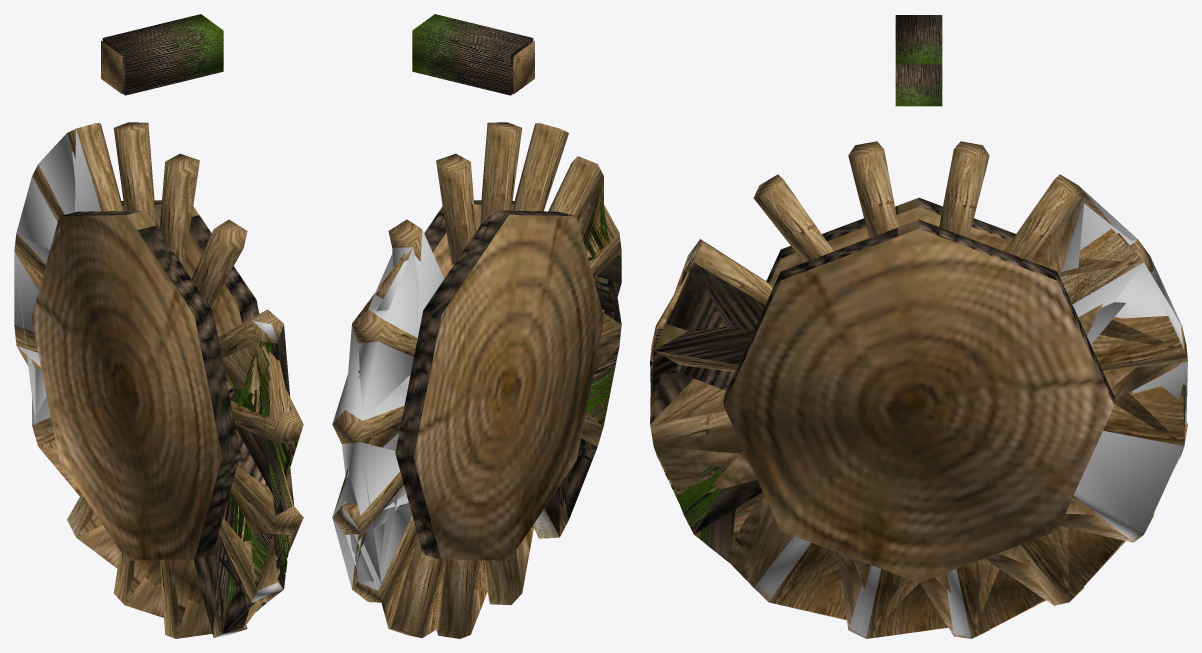
The model's file is stbr10.dae.
3 views of the same model, side by side, from view 1: azimuth 30°, elevation 25°; view 2: azimuth 150°, elevation 25°; view 3: azimuth 270°, elevation 25° (orthographic). The views are drawn at different scales.
Visible parts, largest first — view 1: main, gearleft, gearleftbroken, gearwork; view 2: main, gearleftbroken, gearleft, gearwork; view 3: main, gearleft, gearleftbroken, gearwork.
Boxes of the visible parts, x1,y1,x2,y2 form: main: (14, 14, 303, 638); gearleft: (15, 252, 303, 638); gearleftbroken: (14, 129, 283, 637); gearwork: (216, 330, 293, 633); main: (332, 14, 621, 638); gearleftbroken: (332, 188, 601, 636); gearleft: (333, 159, 621, 637); gearwork: (565, 183, 617, 519); main: (650, 15, 1187, 638); gearleft: (650, 186, 1187, 638); gearleftbroken: (679, 187, 1187, 638); gearwork: (650, 263, 765, 587).
Bounding box in the file's own units: 0.1898 × 0.8584 × 1.05.
2 materials, 1 textured.
